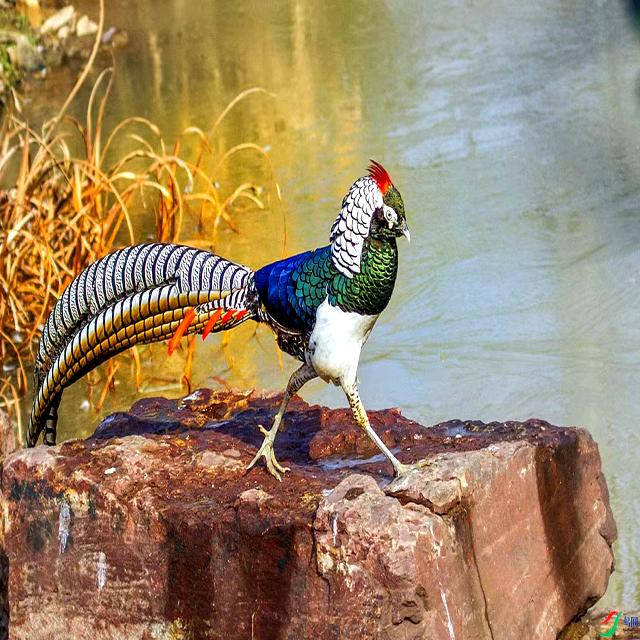Chrysolophus amherstiae: (28, 243, 253, 445)
